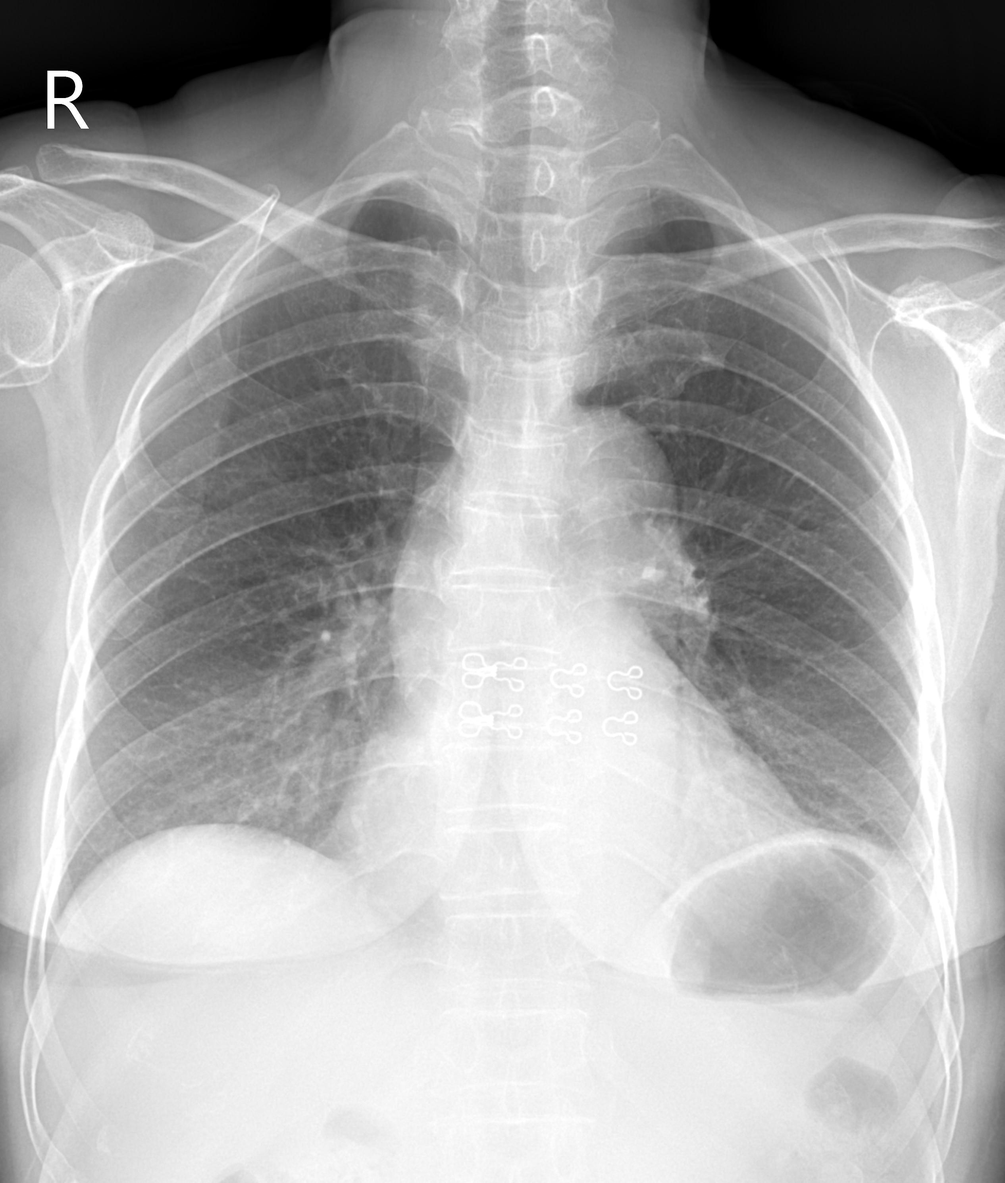Aortic enlargement: (385, 399, 671, 680)
